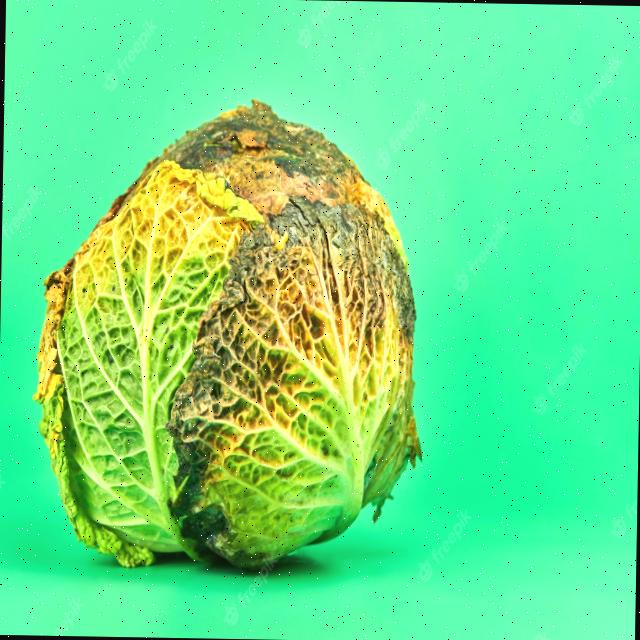rotten cabbage: (34, 82, 441, 606)
